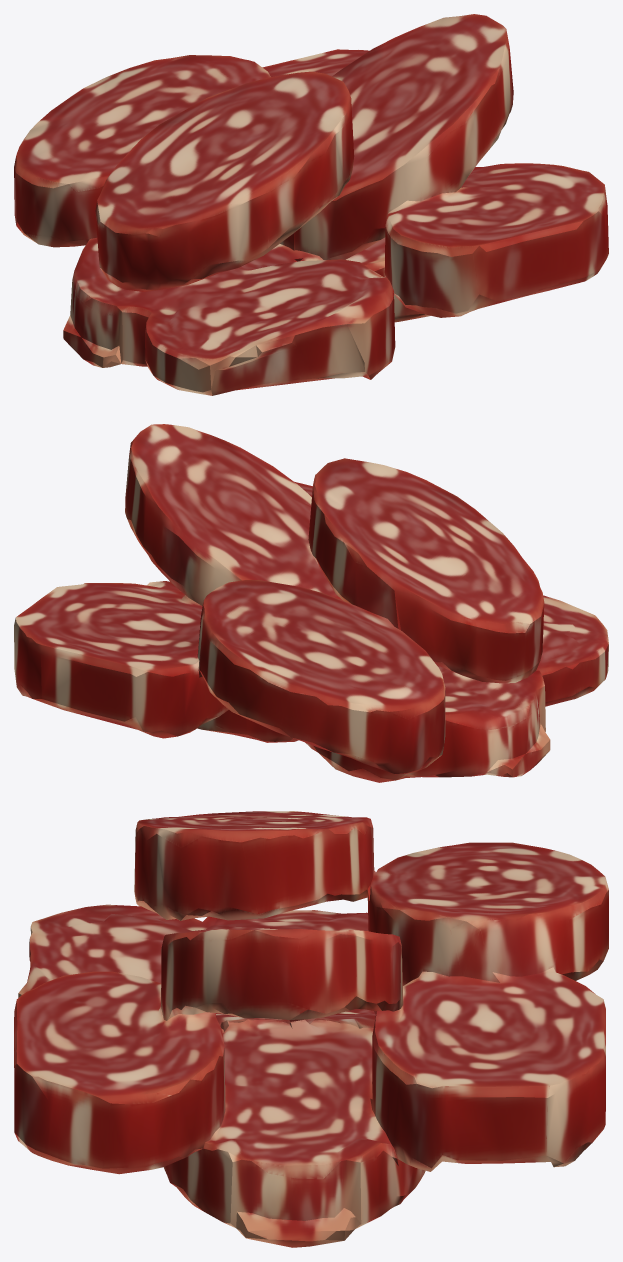
The model's file is Salami_v2.glb.
3 views of the same model, one above another, from view 1: azimuth 30°, elevation 25°; view 2: azimuth 150°, elevation 25°; view 3: azimuth 270°, elevation 25° (orthographic). The views are drawn at different scales.
Parts seen in each view (by area): view 1: geometry_0; view 2: geometry_0; view 3: geometry_0.
Part boxes in pixels (box(x1,y1,x2,y2)): geometry_0: box(14, 14, 608, 395); geometry_0: box(14, 424, 608, 782); geometry_0: box(14, 811, 608, 1247).
Size of the model in its own units: 0.15 by 0.08 by 0.14.
Materials: 1 (1 with a texture image).
